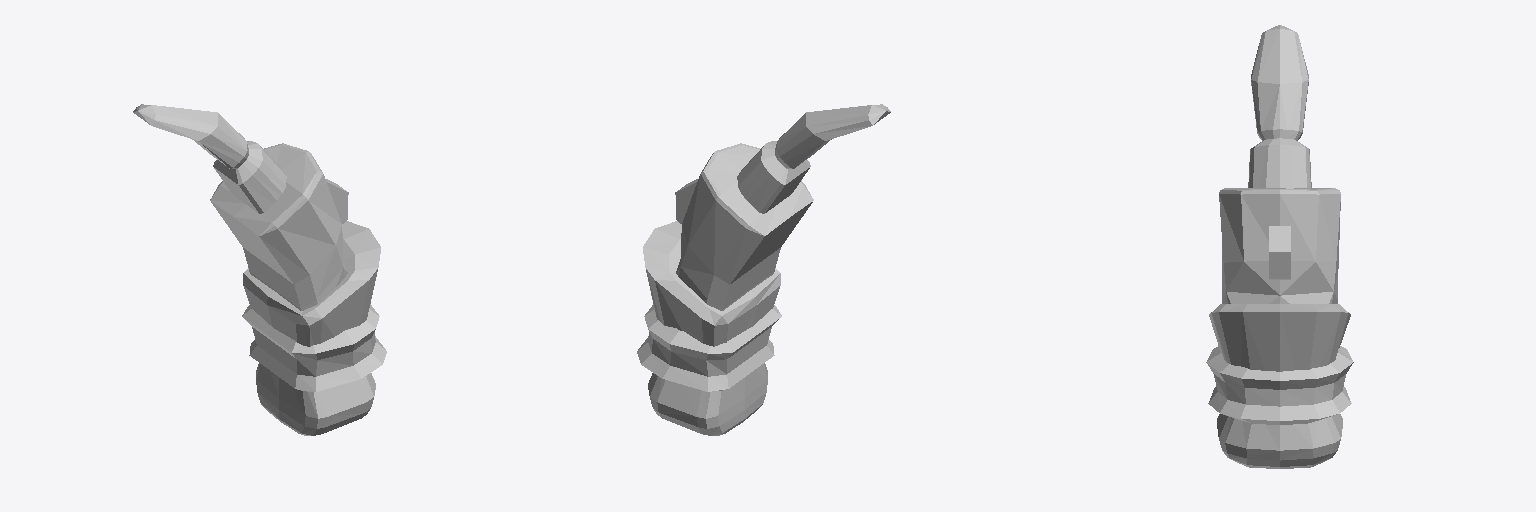
The model's file is character_skeleton_archer_armLeft.obj.
The picture shows the model from 3 angles: view 1: azimuth 30°, elevation 25°; view 2: azimuth 150°, elevation 25°; view 3: azimuth 270°, elevation 25°; orthographic projection.
Visible parts, largest first — view 1: character_skeleton_archer_armLeft_Cube.7662; view 2: character_skeleton_archer_armLeft_Cube.7662; view 3: character_skeleton_archer_armLeft_Cube.7662.
Boxes of the visible parts, box(x1,y1,x2,y2) form: character_skeleton_archer_armLeft_Cube.7662: box(133, 104, 386, 435); character_skeleton_archer_armLeft_Cube.7662: box(637, 104, 890, 435); character_skeleton_archer_armLeft_Cube.7662: box(1206, 25, 1353, 468).
Size of the model in its own units: 0.4 by 0.5705 by 0.216.